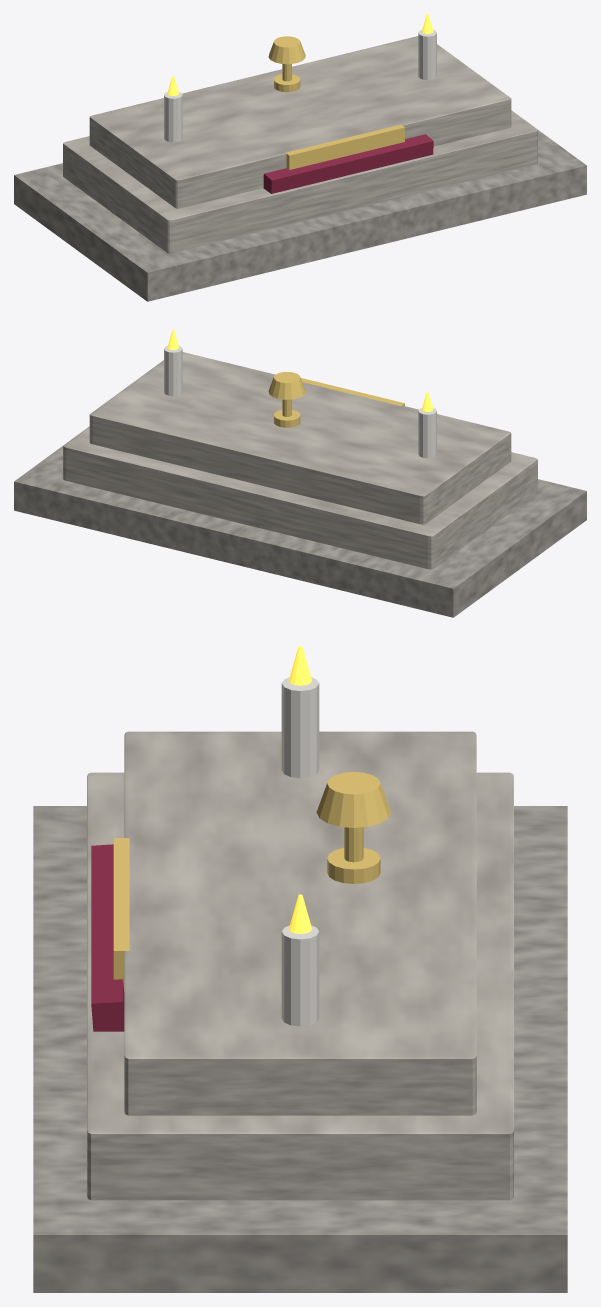
Rendered from altar.glb.
3 views of the same model, one above another, from view 1: azimuth 30°, elevation 25°; view 2: azimuth 150°, elevation 25°; view 3: azimuth 270°, elevation 25° (orthographic). The views are drawn at different scales.
Visible parts, largest first — view 1: al_top, al_sup.001, al_drape, al_carve, al_candle, al_candle.001, al_cup_t, al_cup_b; view 2: al_top, al_sup.001, al_candle, al_candle.001, al_cup_t, al_carve, al_cup_b; view 3: al_top, al_sup.001, al_drape, al_candle, al_candle.001, al_cup_t, al_carve, al_cup_b.
Boxes of the visible parts, x1,y1,x2,y2 form: al_top: (63, 36, 537, 253); al_sup.001: (14, 110, 586, 301); al_drape: (263, 134, 433, 193); al_carve: (286, 124, 404, 169); al_candle: (164, 92, 182, 142); al_candle.001: (418, 29, 436, 80); al_cup_t: (268, 36, 305, 64); al_cup_b: (274, 74, 300, 92); al_top: (63, 352, 537, 569); al_sup.001: (14, 426, 586, 617); al_candle: (418, 408, 436, 458); al_candle.001: (164, 345, 182, 396); al_cup_t: (268, 372, 305, 399); al_carve: (301, 378, 404, 405); al_cup_b: (274, 410, 300, 427); al_top: (87, 731, 513, 1200); al_sup.001: (33, 806, 567, 1292); al_drape: (91, 844, 124, 1031); al_candle: (281, 677, 319, 778); al_candle.001: (281, 925, 319, 1026); al_cup_t: (316, 772, 391, 827); al_carve: (113, 838, 129, 991); al_cup_b: (327, 848, 380, 883).
Size of the model in its own units: 1.9 by 0.6567 by 1.
6 materials, 2 textured.
